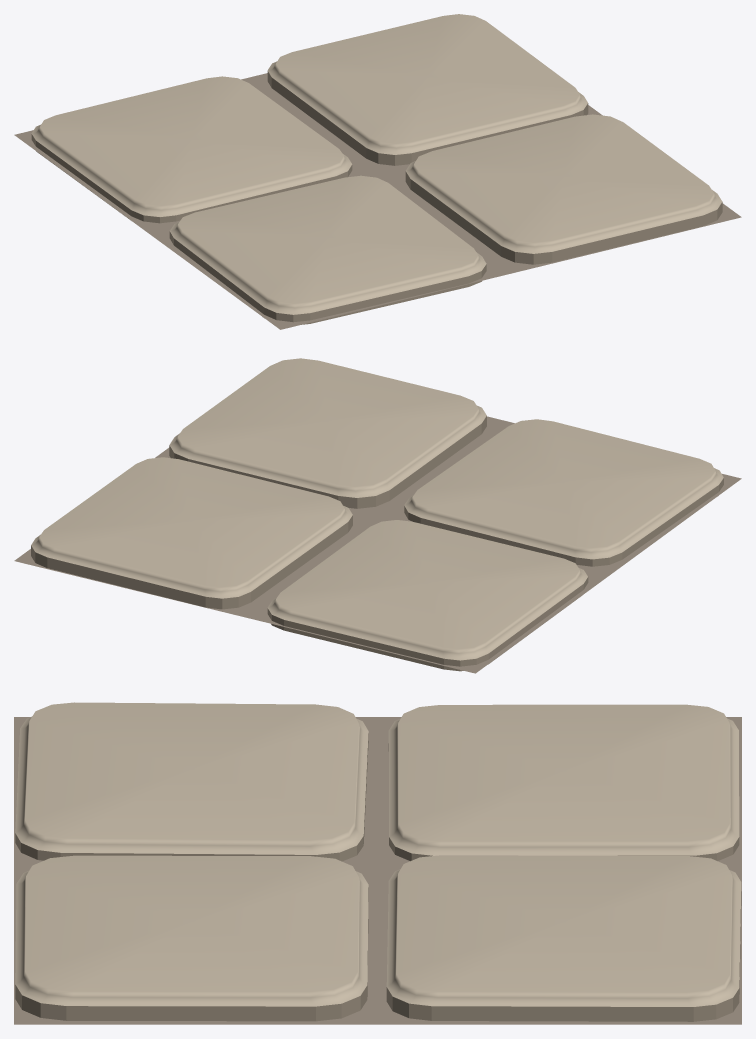
Rendered from master_soft_pavers_02.glb.
The picture shows the model from 3 angles, top to bottom: view 1: azimuth 30°, elevation 25°; view 2: azimuth 150°, elevation 25°; view 3: azimuth 270°, elevation 25°; orthographic projection. The views are drawn at different scales.
Visible parts, largest first — view 1: master_soft_pavers_02; view 2: master_soft_pavers_02; view 3: master_soft_pavers_02.
Part boxes in pixels (box(x1,y1,x2,y2)): master_soft_pavers_02: box(14, 14, 741, 329); master_soft_pavers_02: box(14, 358, 741, 673); master_soft_pavers_02: box(14, 702, 741, 1024).
Size of the model in its own units: 1.35 by 0.0699 by 1.35.
